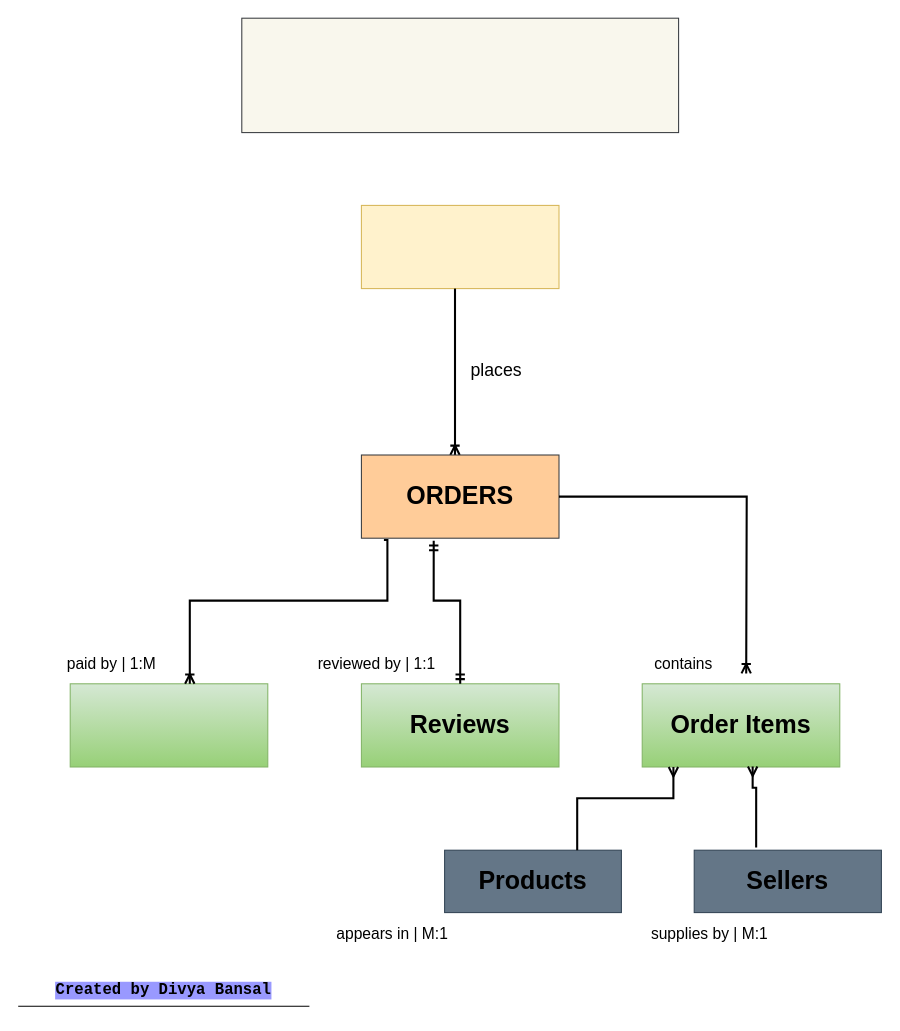
Some shapes in this 900 by 1031 pixel diagram are drawn without their labels. Each missing label, with the box of its shape:
CUSTOMERS: (360, 204, 559, 289)
Nova - Retail Conceptual ER Diagram: (241, 17, 679, 133)
Payments: (69, 683, 268, 767)
